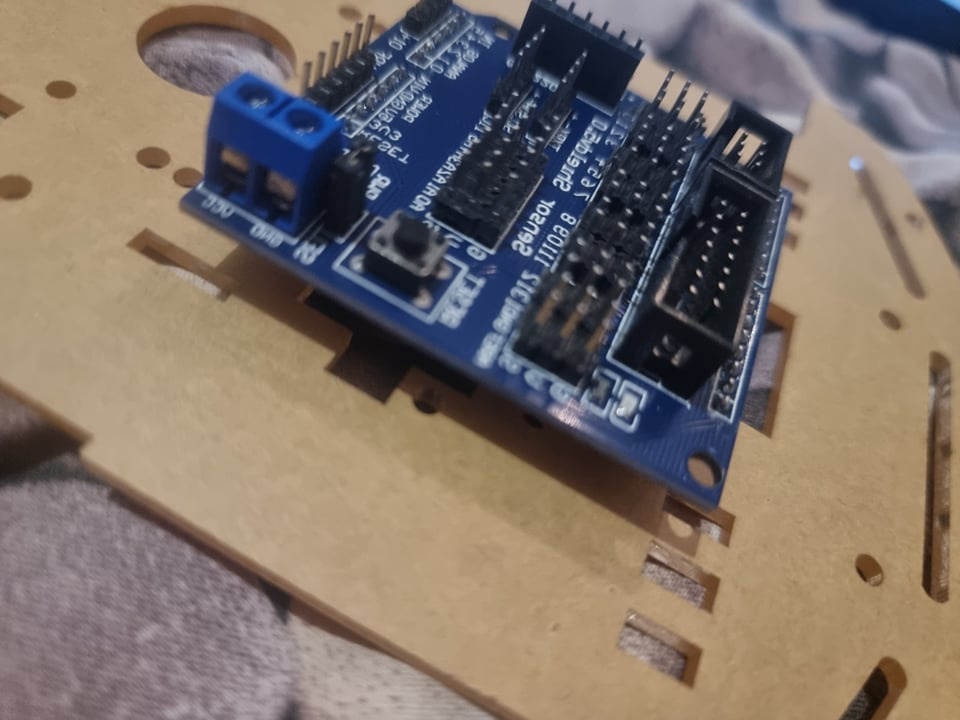5V EXPANSION: (178, 1, 800, 513)
